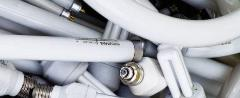lightbulb: (0, 0, 240, 98), (119, 57, 167, 97), (0, 60, 24, 98), (119, 62, 143, 86)
